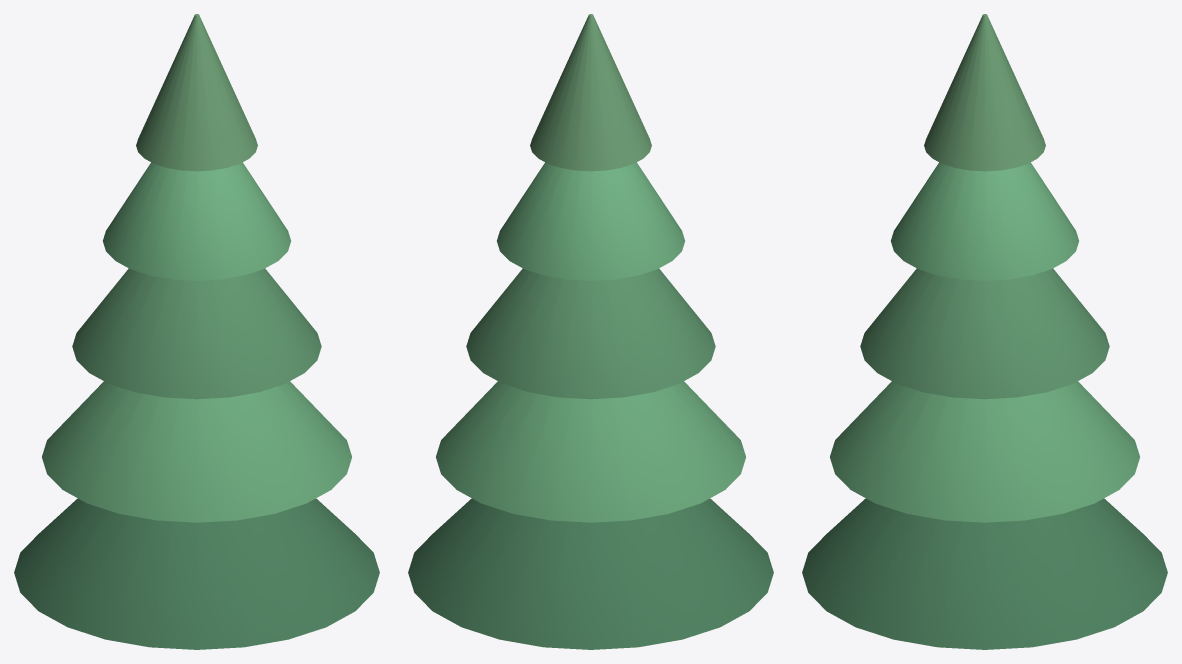
Rendered from tree_pine.glb.
3 views of the same model, side by side, from view 1: azimuth 30°, elevation 25°; view 2: azimuth 150°, elevation 25°; view 3: azimuth 270°, elevation 25° (orthographic).
Parts seen in each view (by area): view 1: Hull; view 2: Hull; view 3: Hull.
Part boxes in pixels (x1=…): Hull: x1=14, y1=14, x2=379, y2=649; Hull: x1=408, y1=14, x2=773, y2=649; Hull: x1=802, y1=14, x2=1167, y2=649.
Size of what is drawn, in the model's own units: 1.32 by 2.32 by 1.32.
